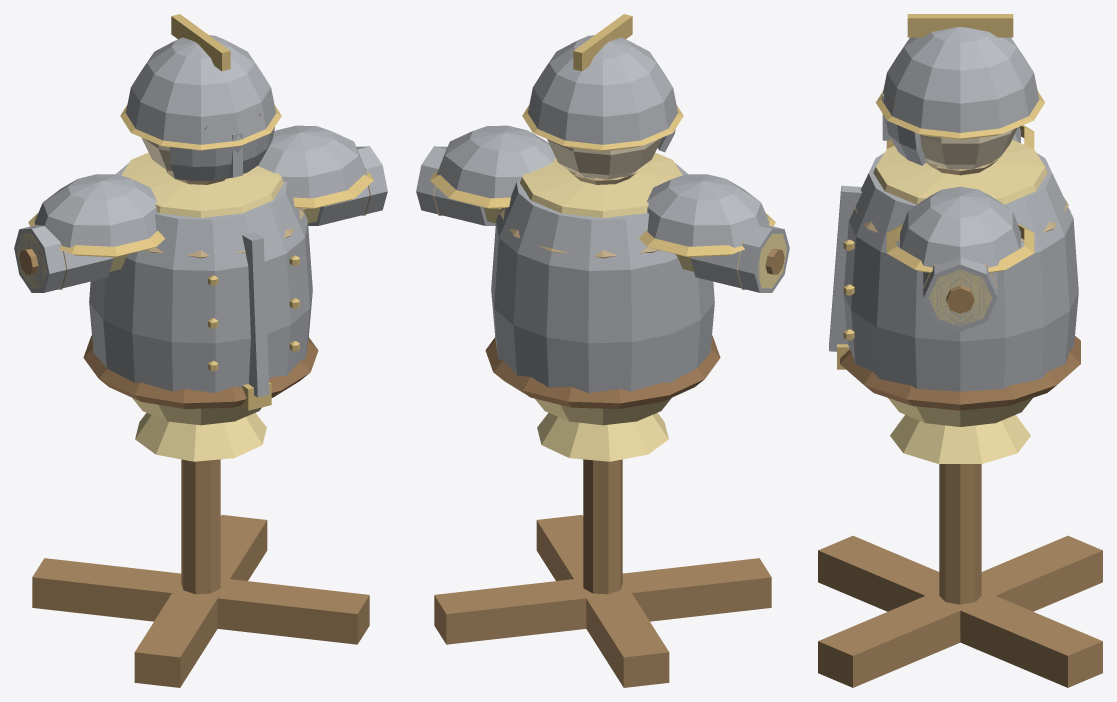
File: training_dummy_armored.glb
3 views of the same model, side by side, from view 1: azimuth 30°, elevation 25°; view 2: azimuth 150°, elevation 25°; view 3: azimuth 270°, elevation 25° (orthographic). The views are drawn at different scales.
Parts seen in each view (by area): view 1: training_dummy_armored; view 2: training_dummy_armored; view 3: training_dummy_armored.
Part boxes in pixels (x1,y1,x2,y2): training_dummy_armored: [14, 14, 387, 687]; training_dummy_armored: [416, 14, 789, 687]; training_dummy_armored: [818, 14, 1102, 687].
Size of the model in its own units: 1.2 by 1.91 by 0.8061.
